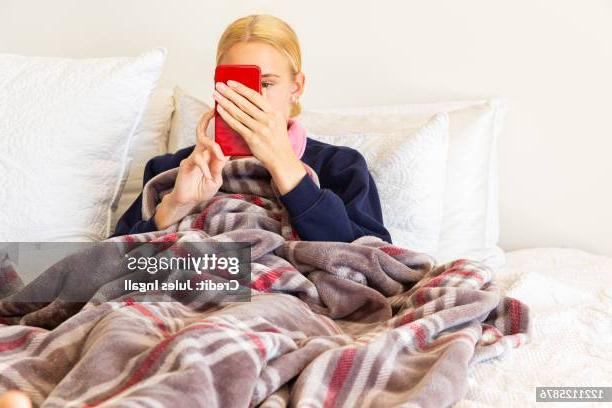blanket: (0, 155, 535, 408)
sweater: (112, 136, 393, 243)
